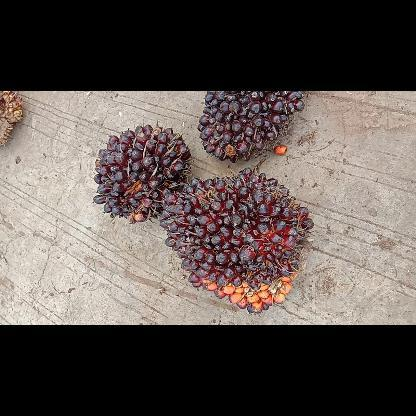TBS mentah: (156, 164, 314, 315), (89, 120, 193, 226), (196, 91, 306, 164)
